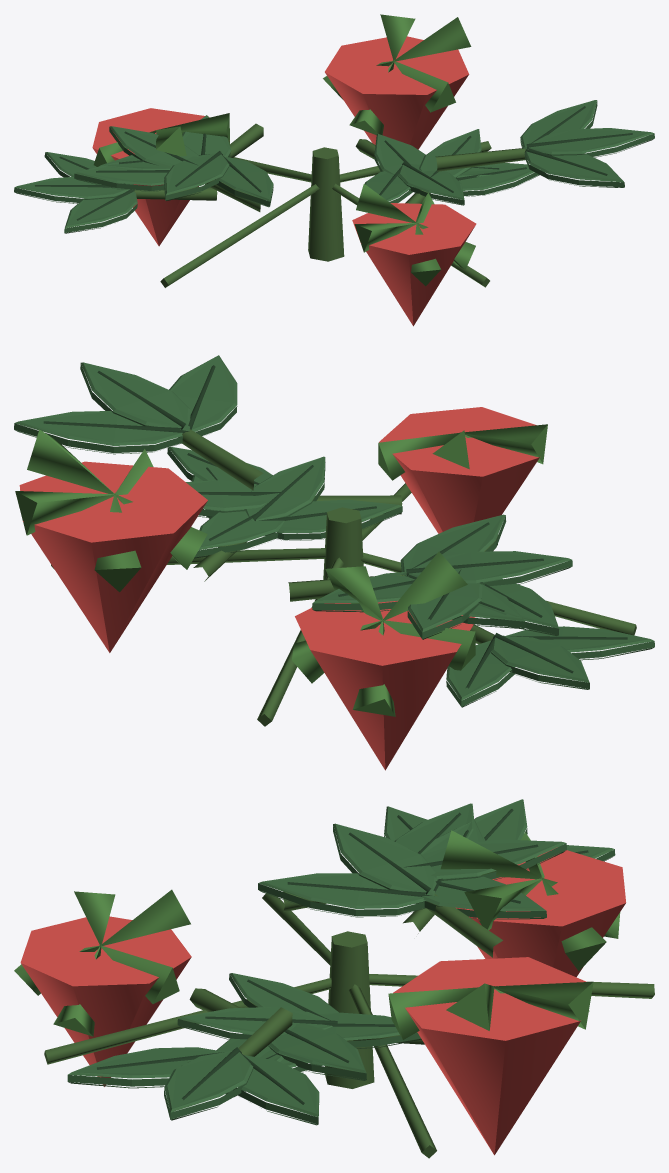
File: strawberry.m1.glb
3 views of the same model, one above another, from view 1: azimuth 30°, elevation 25°; view 2: azimuth 150°, elevation 25°; view 3: azimuth 270°, elevation 25° (orthographic). The views are drawn at different scales.
Visible parts, largest first — view 1: cropLeafInstances, cropFruitInstances, cropStemInstances; view 2: cropFruitInstances, cropLeafInstances, cropStemInstances; view 3: cropFruitInstances, cropLeafInstances, cropStemInstances.
Boxes of the visible parts, x1,y1,x2,y2 form: cropLeafInstances: (14, 100, 654, 233); cropFruitInstances: (92, 14, 476, 326); cropStemInstances: (160, 141, 491, 287); cropFruitInstances: (15, 407, 547, 770); cropLeafInstances: (14, 355, 654, 707); cropStemInstances: (51, 483, 636, 726); cropFruitInstances: (14, 830, 626, 1155); cropLeafInstances: (67, 799, 615, 1125); cropStemInstances: (44, 893, 654, 1158).
Size of what is drawn, in the model's own units: 1.5 by 0.4904 by 1.18.
